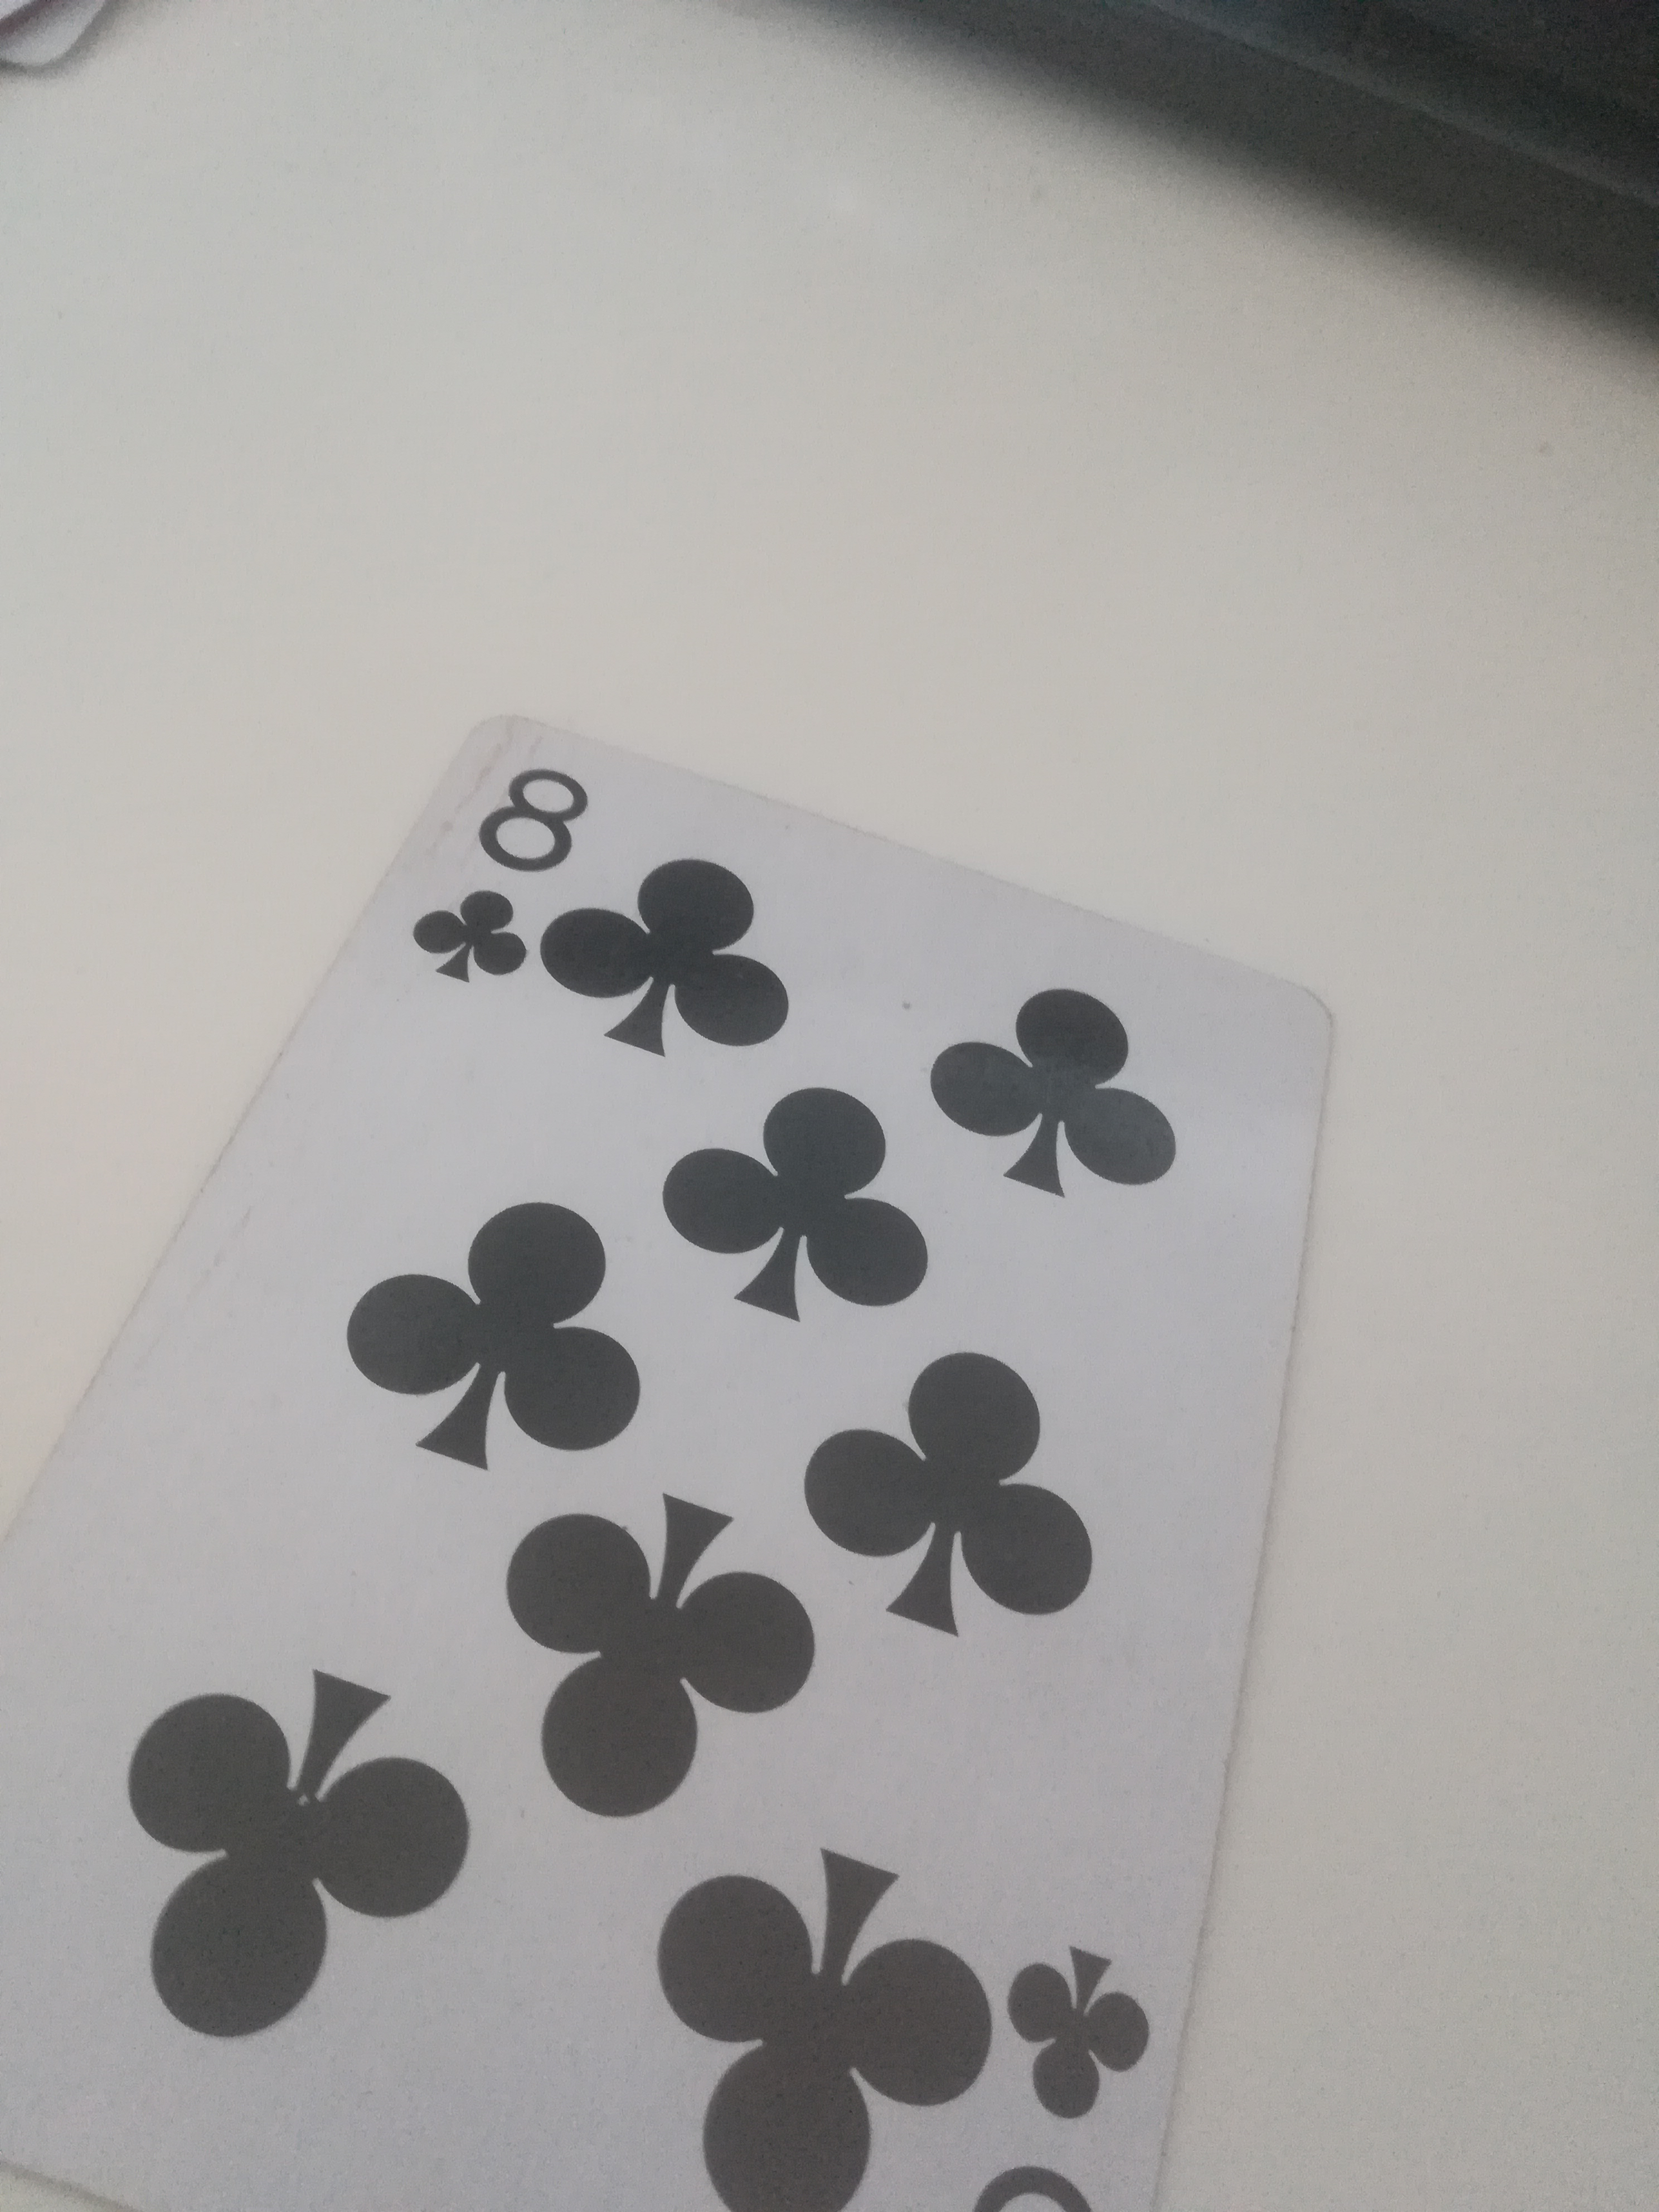8C: (10, 707, 1337, 2212)
